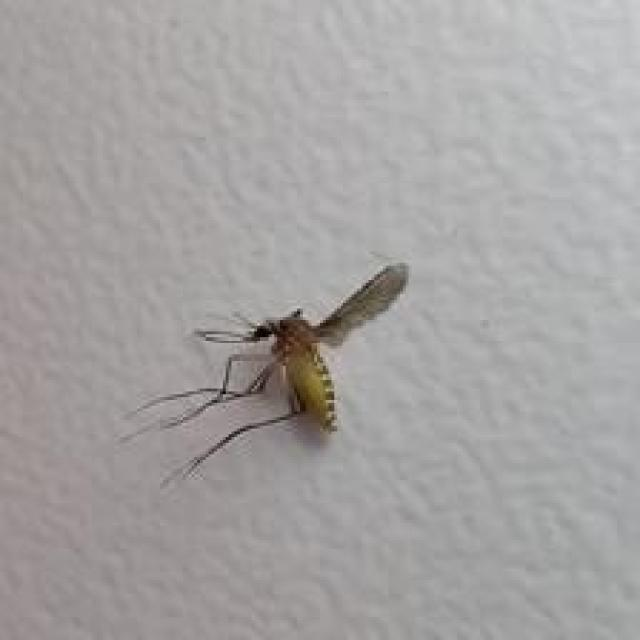Culex: (119, 260, 410, 489)
